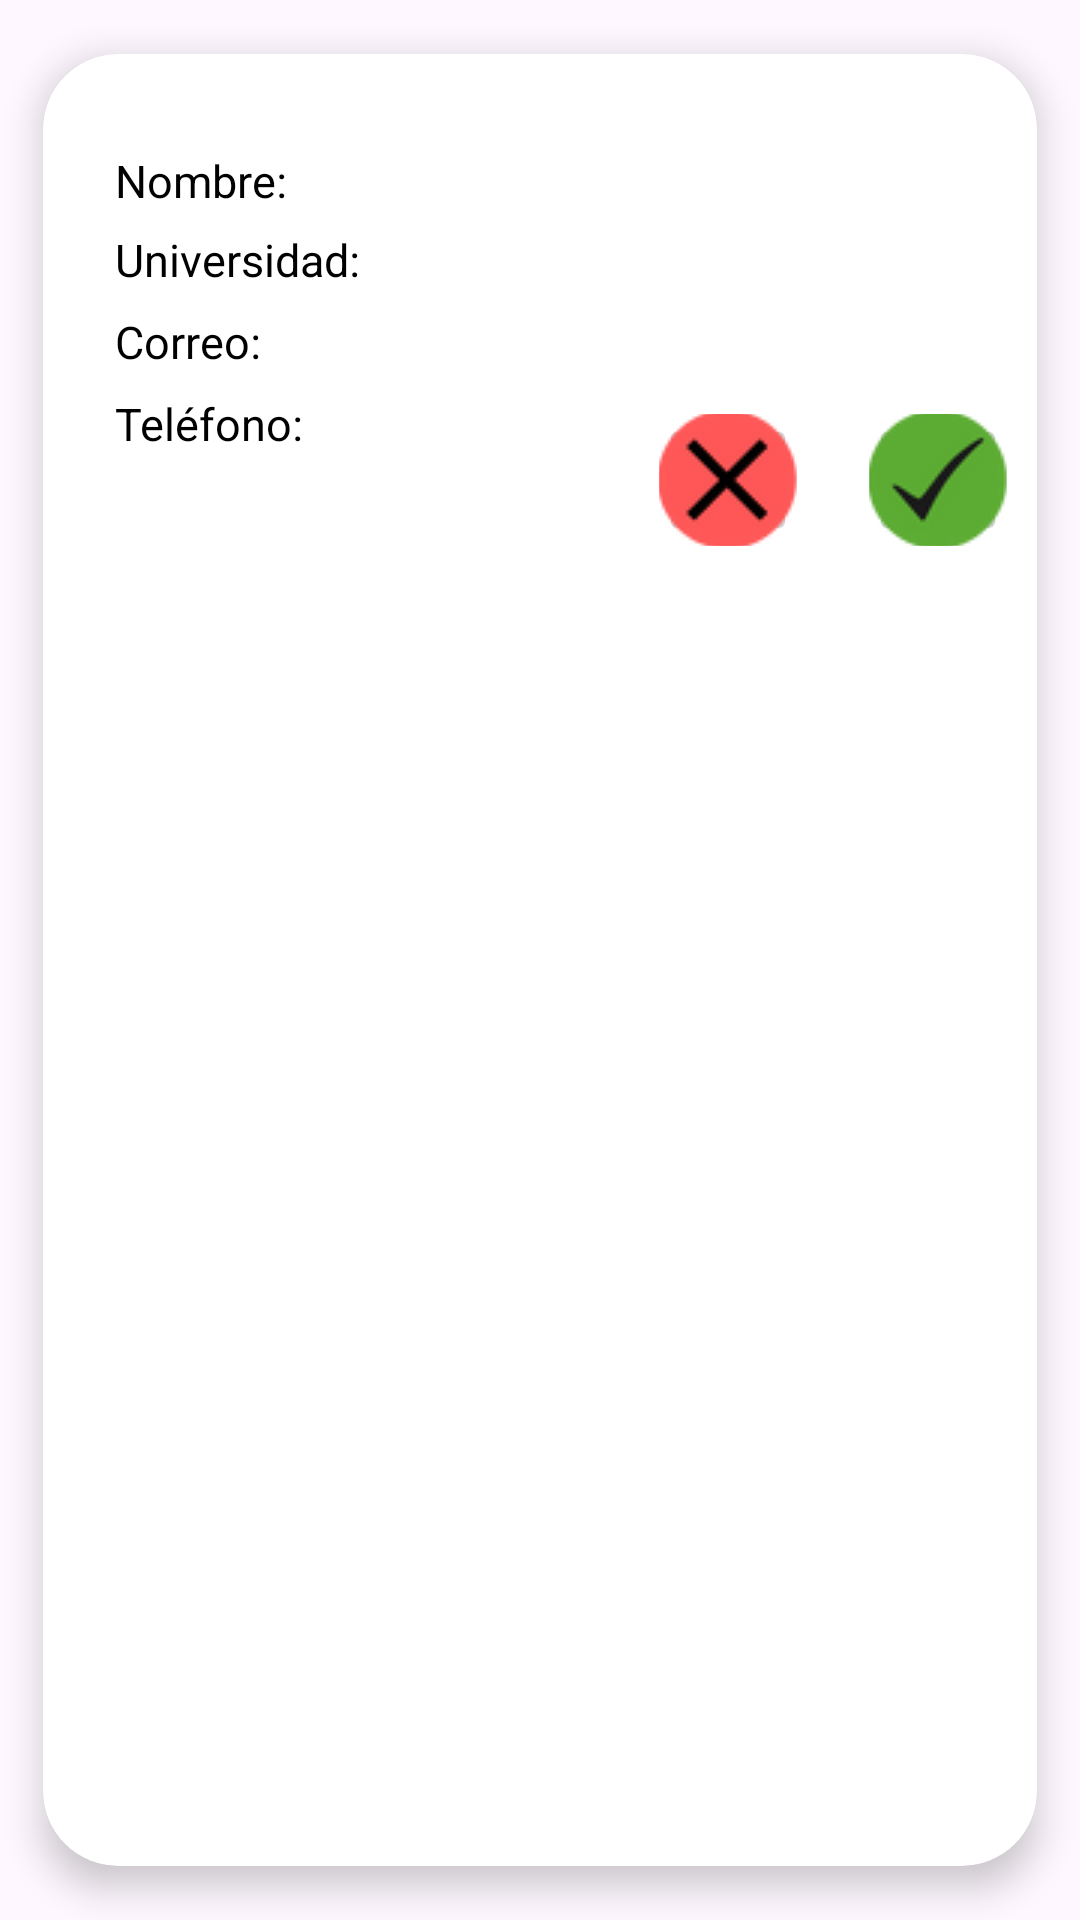

Where to tap for icons on this 1080×1920 app screen, as (x=x, y=y):
btnaceptar: (x=938, y=480)
btnrechazar: (x=728, y=480)
